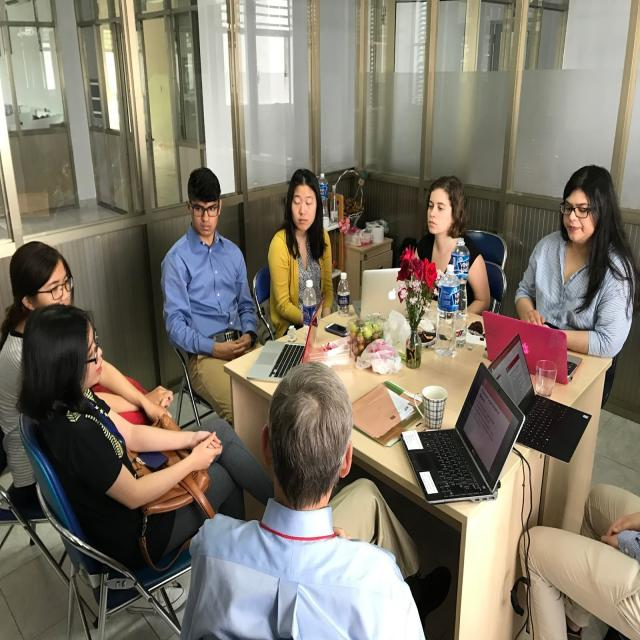body: (13, 302, 276, 584), (175, 358, 428, 640), (0, 239, 175, 516), (159, 165, 264, 432), (506, 162, 640, 362), (499, 501, 638, 639), (402, 173, 492, 318), (266, 167, 338, 341)
